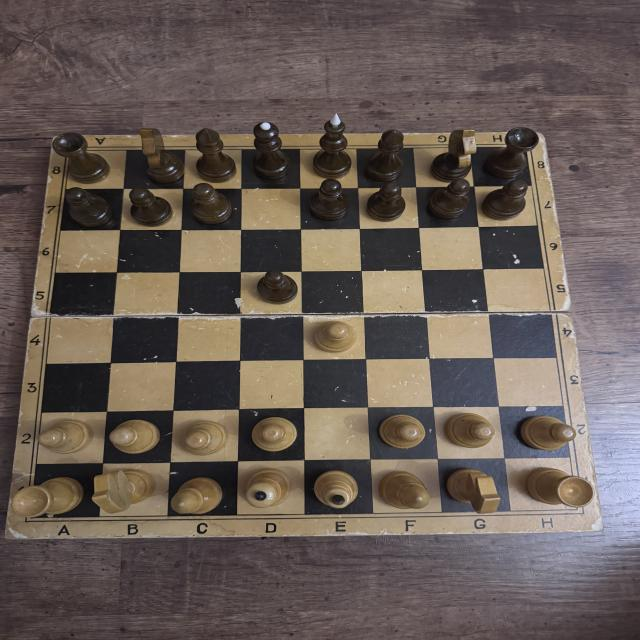black-bishop: (192, 127, 239, 183), (364, 127, 409, 181)
black-king: (314, 112, 353, 178)
black-knight: (132, 126, 183, 183), (428, 127, 480, 179)
black-pawn: (64, 186, 118, 228), (307, 179, 353, 222), (481, 178, 527, 220), (188, 183, 234, 225), (427, 179, 474, 219), (127, 186, 173, 226), (365, 181, 406, 222), (254, 269, 300, 305)
black-queen: (251, 121, 292, 180)
black-rook: (51, 132, 110, 184), (484, 127, 538, 176)
white-bishop: (168, 474, 226, 517), (376, 468, 432, 512)
white-king: (310, 471, 362, 511)
white-knight: (439, 466, 504, 516), (90, 470, 154, 514)
white-pawn: (516, 415, 576, 451), (106, 420, 161, 454), (37, 420, 92, 454), (448, 411, 496, 448), (380, 412, 426, 450), (181, 422, 227, 455), (252, 418, 297, 451), (312, 320, 356, 352)
white-queen: (242, 468, 292, 509)
white-rook: (525, 466, 595, 508), (12, 477, 83, 518)
